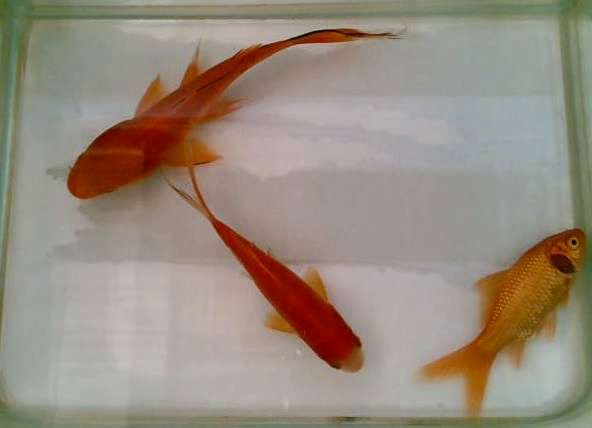alive_fish: (58, 15, 412, 202), (160, 167, 377, 382)
dead_fish: (411, 216, 589, 428)
